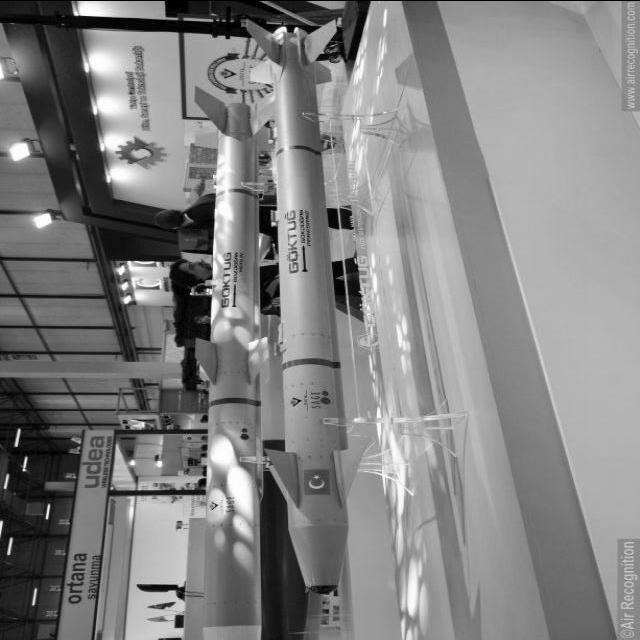missile: (252, 0, 356, 609)
